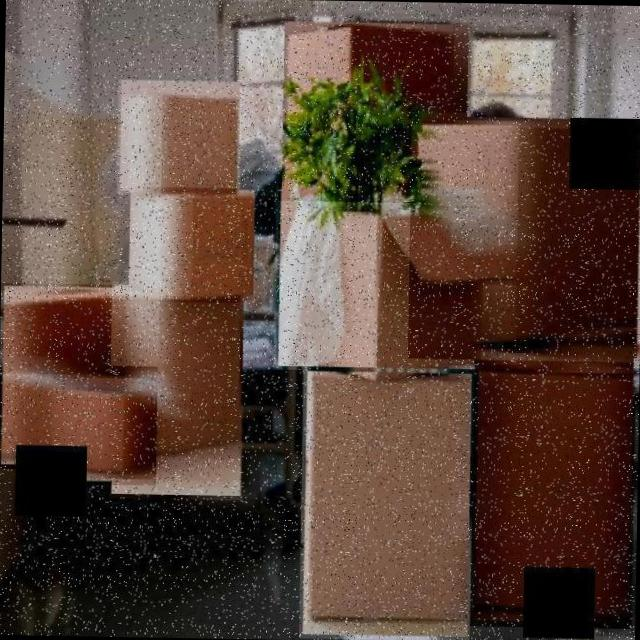box: (407, 112, 640, 362), (469, 340, 636, 628), (298, 367, 474, 640), (272, 185, 510, 373), (278, 18, 470, 204), (108, 281, 245, 500), (0, 282, 118, 470), (28, 364, 157, 485), (125, 186, 257, 302), (116, 80, 241, 198)
